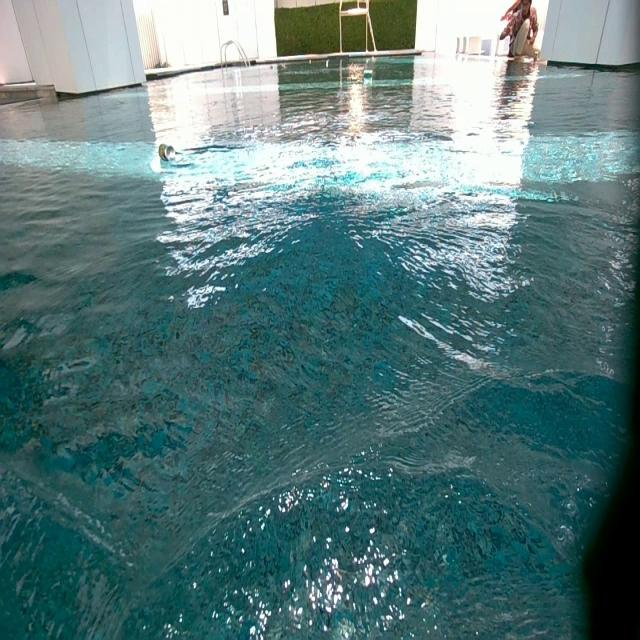Cans: (160, 143, 177, 161), (362, 70, 373, 81), (280, 64, 286, 72), (326, 59, 330, 65), (269, 66, 274, 70), (308, 61, 314, 64)
